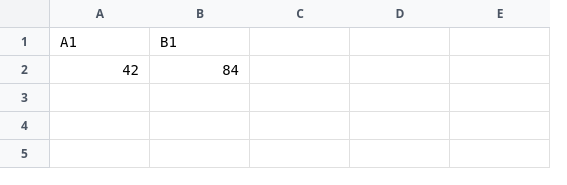
Grid Component › highlights selected column header with blue background
Click column header A (index 0)
Press the mouse on the text "A" at (100, 14), box [50,0,150,28]
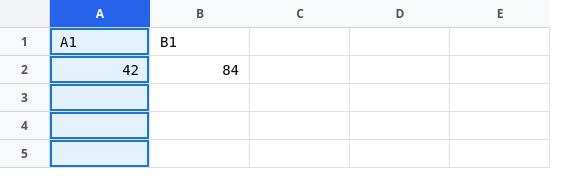
Now the text "A" has class "bg-blue-600", box [50,0,150,28]
Now the text "A" has class "text-white", box [50,0,150,28]
